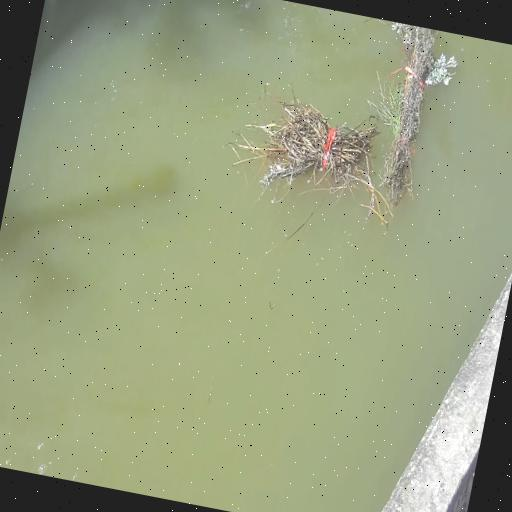twig: (355, 22, 465, 216), (251, 93, 388, 225)
